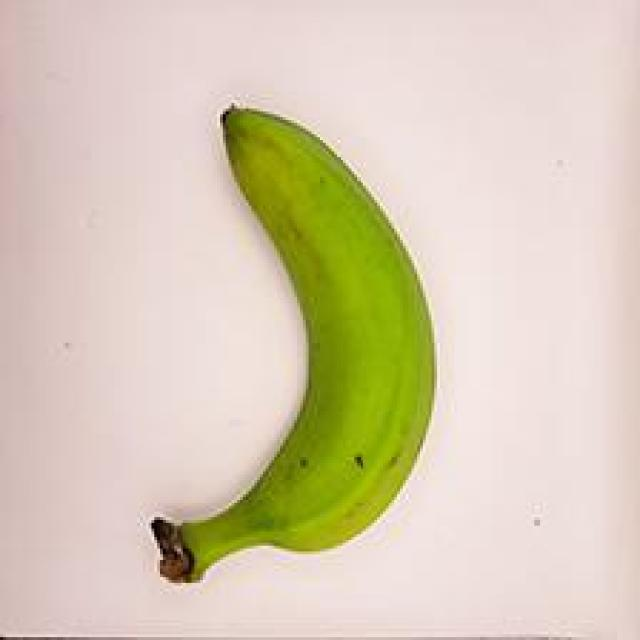Unripe: (101, 79, 446, 615)
